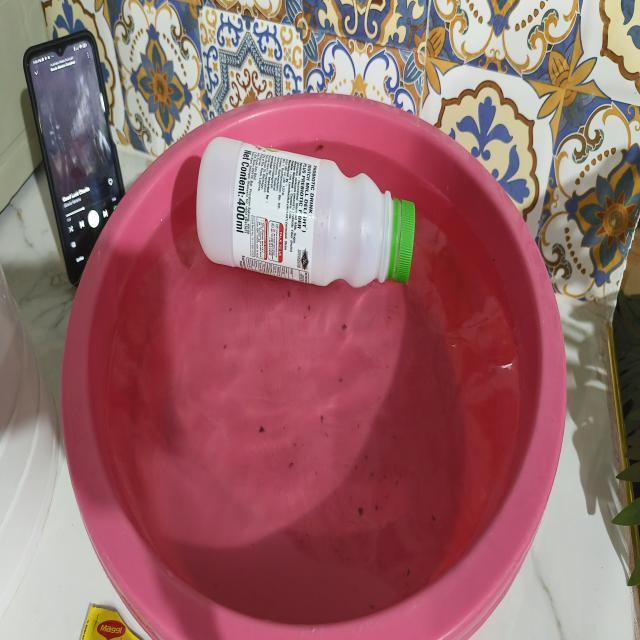Plastic Bottle: (196, 137, 415, 287)
